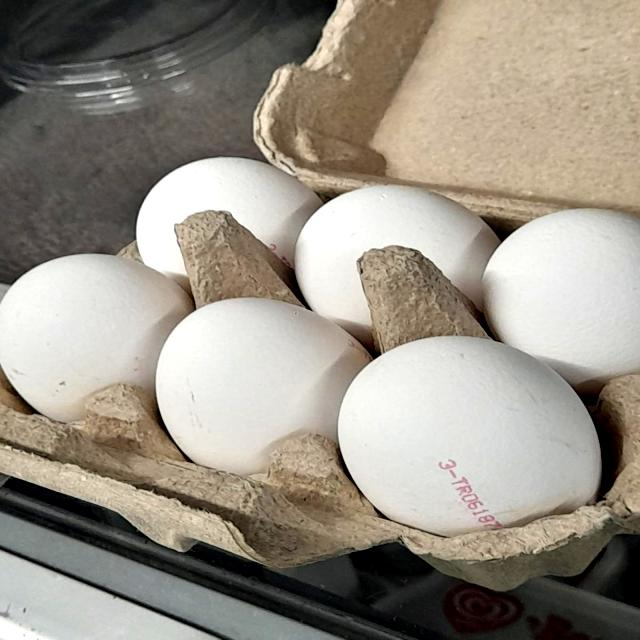egg: (336, 307, 607, 551), (158, 280, 366, 505), (4, 237, 188, 451)
